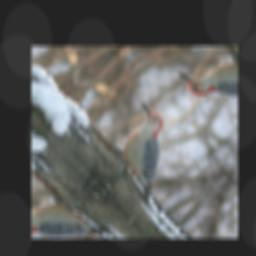Woodpecker: (89, 99, 202, 203)
